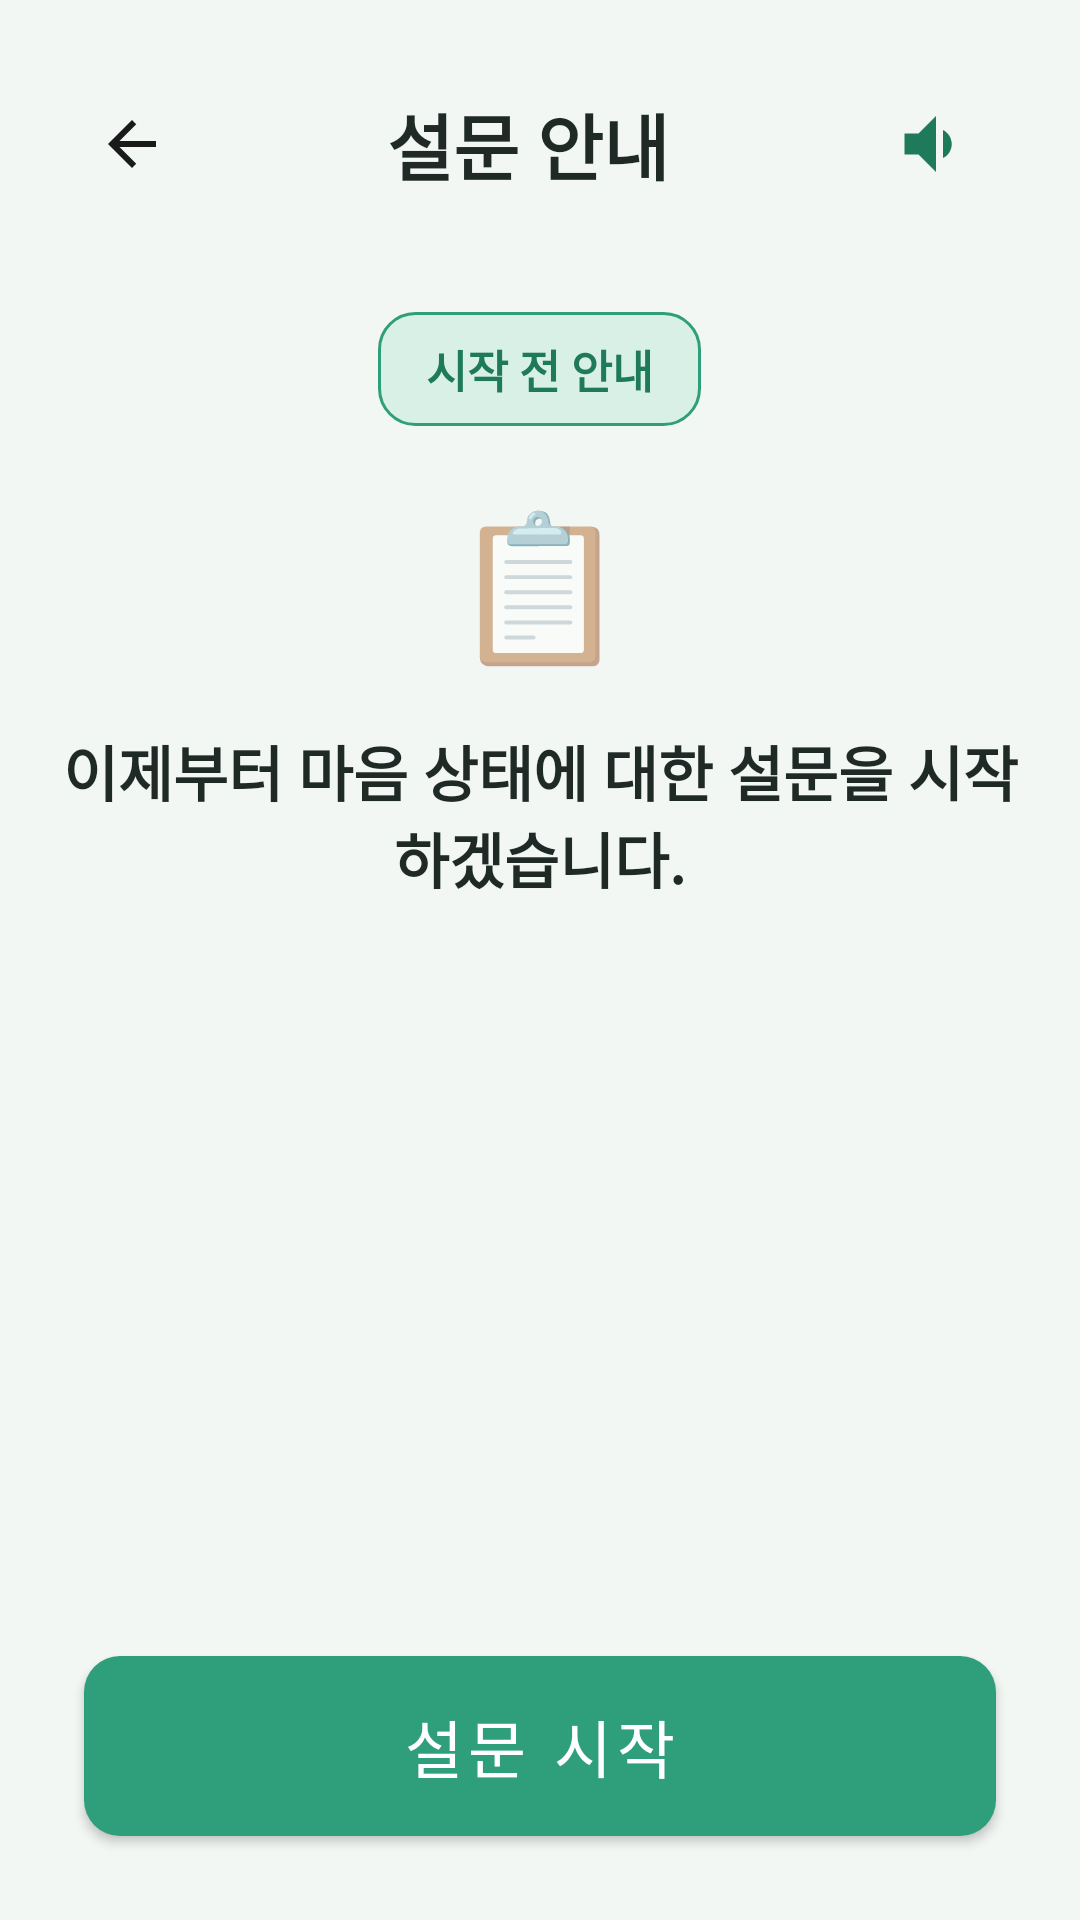

Screen size 1080 x 1920. Icon name, then its box in pixels as (x1, y1, x2, y2):
back: (108, 120, 156, 168)
speaker: (904, 116, 952, 172)
